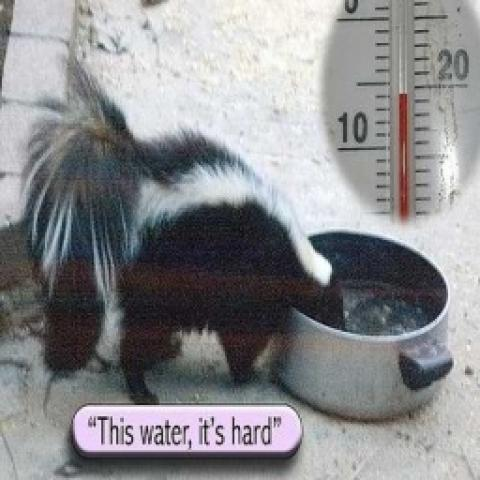small_animal: (17, 51, 343, 401)
